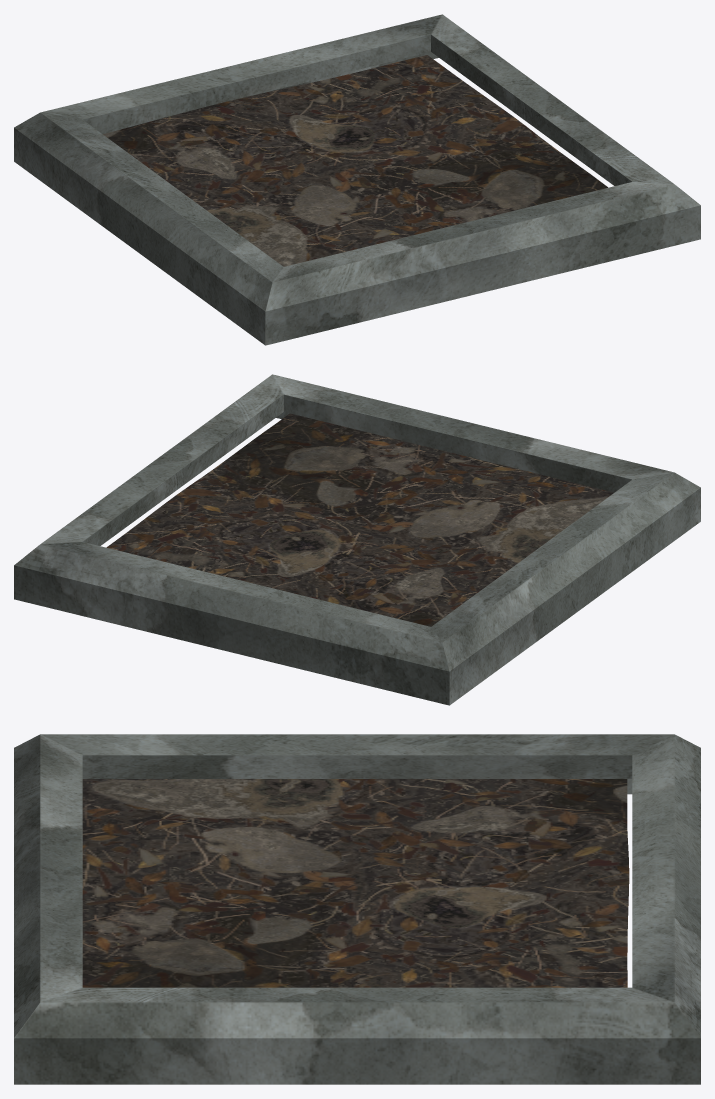
Rendered from BaseArbol.obj.
3 renders of one model, top to bottom at view 1: azimuth 30°, elevation 25°; view 2: azimuth 150°, elevation 25°; view 3: azimuth 270°, elevation 25°, orthographic. The views are drawn at different scales.
Parts seen in each view (by area): view 1: treebase; view 2: treebase; view 3: treebase.
Boxes of the visible parts, x1,y1,x2,y2 form: treebase: (14, 14, 700, 345); treebase: (14, 374, 700, 705); treebase: (14, 734, 700, 1084).
Size of the model in its own units: 34.93 by 3.99 by 34.93.
